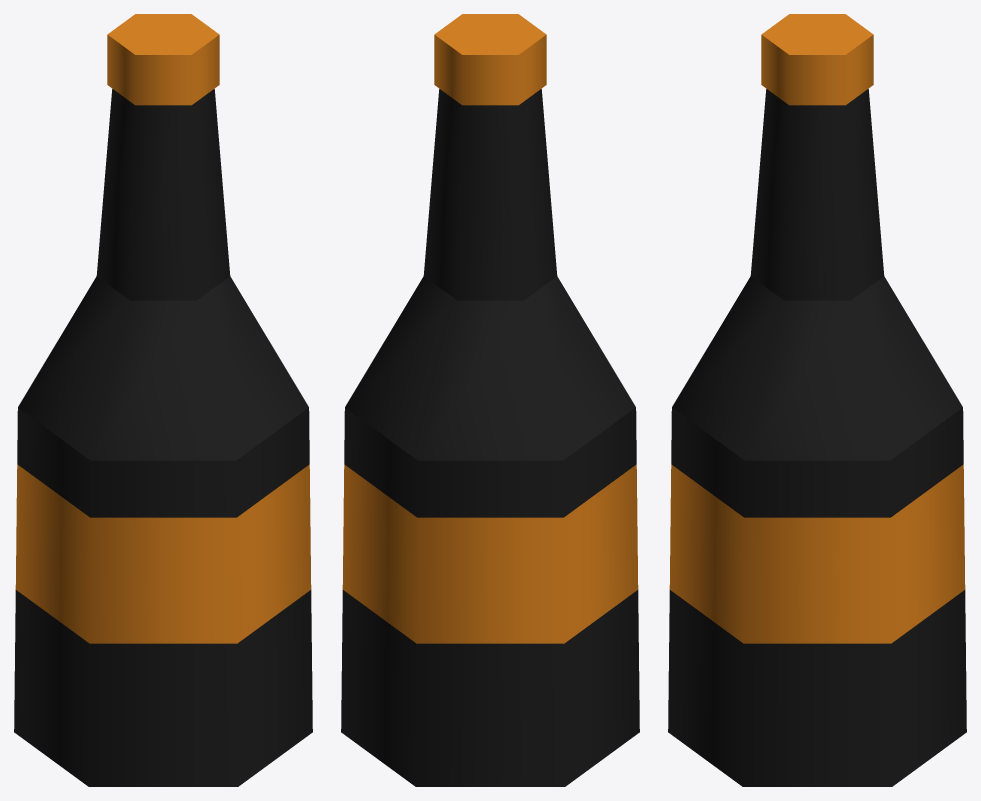
The model's file is blackBottle.fbx.
The picture shows the model from 3 angles, left to right: view 1: azimuth 30°, elevation 25°; view 2: azimuth 150°, elevation 25°; view 3: azimuth 270°, elevation 25°; orthographic projection.
Visible parts, largest first — view 1: SM_Bottle_01; view 2: SM_Bottle_01; view 3: SM_Bottle_01.
Boxes of the visible parts, box(x1,y1,x2,y2) form: SM_Bottle_01: box(14, 14, 312, 786); SM_Bottle_01: box(341, 14, 639, 786); SM_Bottle_01: box(668, 14, 966, 786).
Size of the model in its own units: 10.74 by 31.96 by 12.4.
